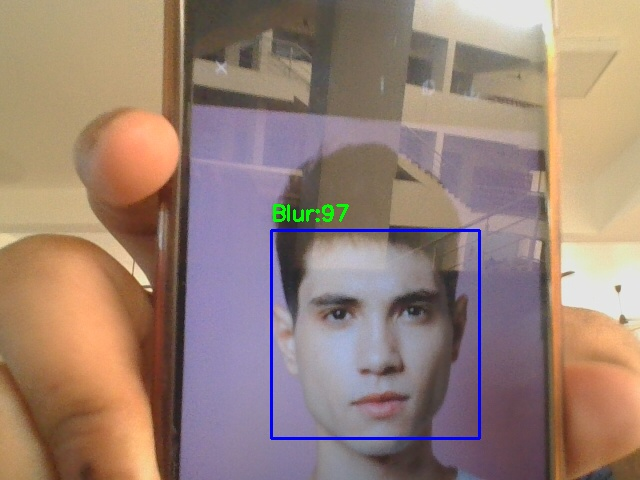fake: (271, 230, 479, 438)
